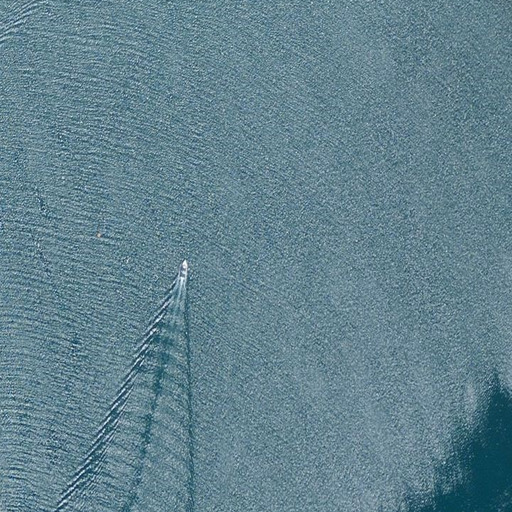ship: (175, 259, 191, 286)
